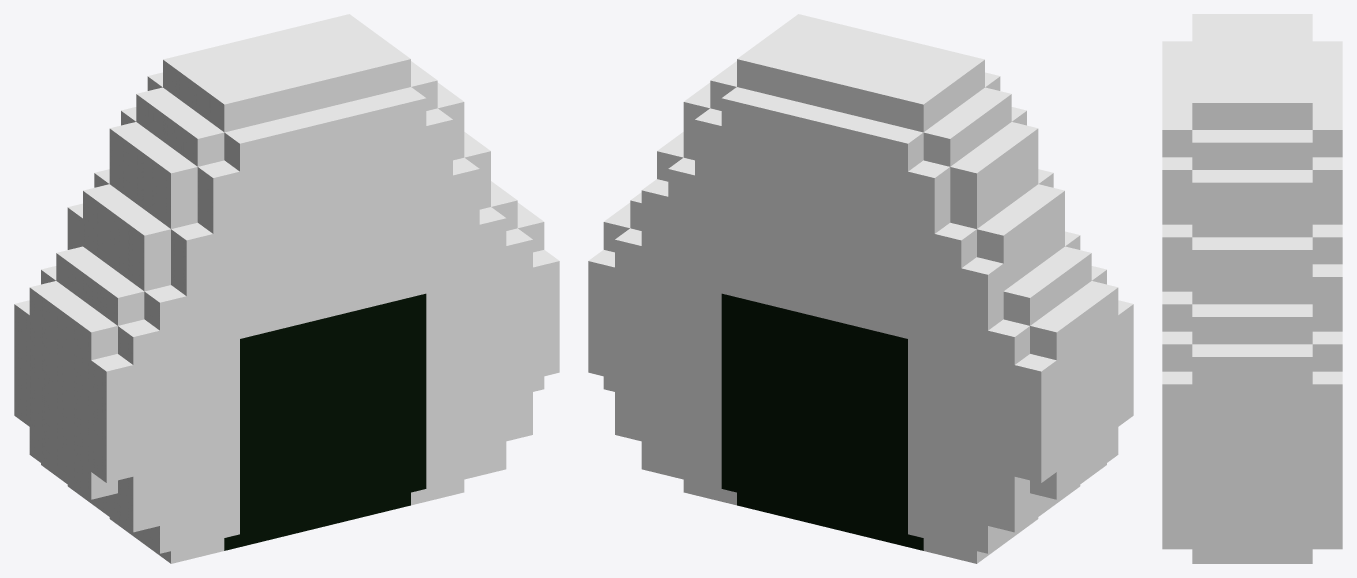
File: onigiri.glb
The picture shows the model from 3 angles, left to right: view 1: azimuth 30°, elevation 25°; view 2: azimuth 150°, elevation 25°; view 3: azimuth 270°, elevation 25°; orthographic projection. The views are drawn at different scales.
Visible parts, largest first — view 1: Object_6, Object_8; view 2: Object_6, Object_8; view 3: Object_8, Object_6.
Part boxes in pixels (<box>): Object_6: <box>14,27,372,563</box>; Object_8: <box>296,14,559,518</box>; Object_6: <box>775,27,1133,563</box>; Object_8: <box>588,14,851,518</box>; Object_8: <box>1162,77,1342,563</box>; Object_6: <box>1162,14,1342,104</box>.
Bounding box in the file's own units: 17 × 16 × 6.
Materials: 1 (1 with a texture image).
